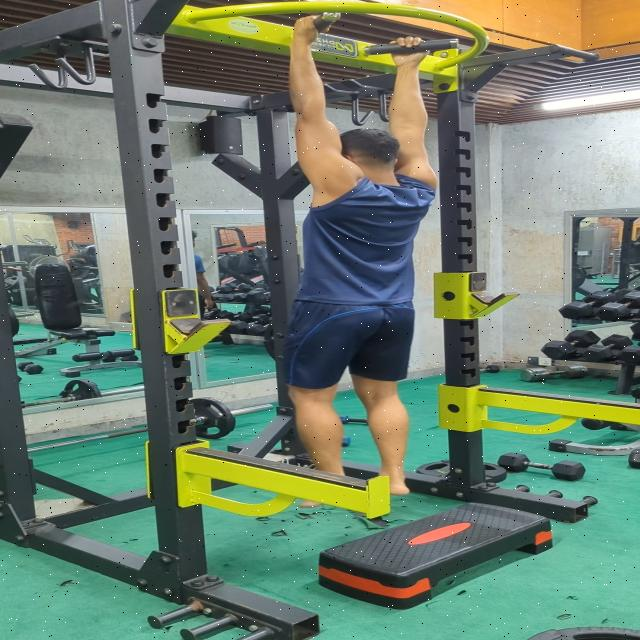Normal_PullUps: (280, 13, 441, 514)
